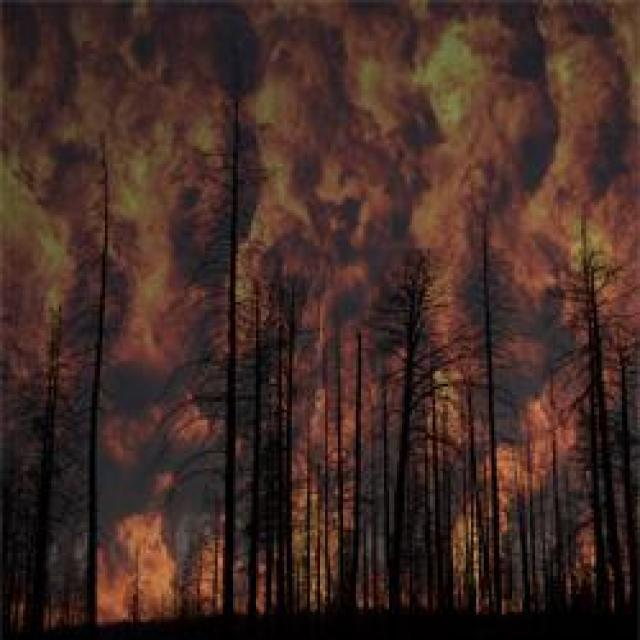Fire: (352, 10, 493, 160), (77, 85, 202, 199), (532, 182, 636, 294), (132, 228, 170, 340)
Smoke: (12, 402, 104, 586), (172, 454, 274, 546), (468, 266, 512, 340)
